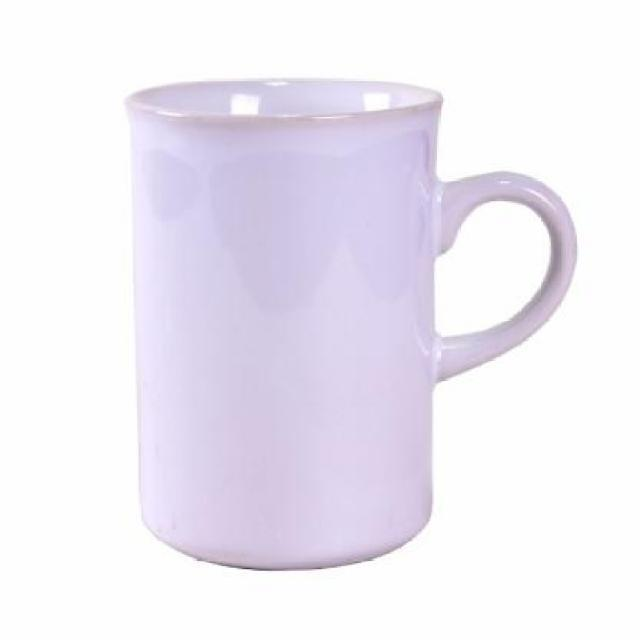taza: (126, 76, 576, 576)
